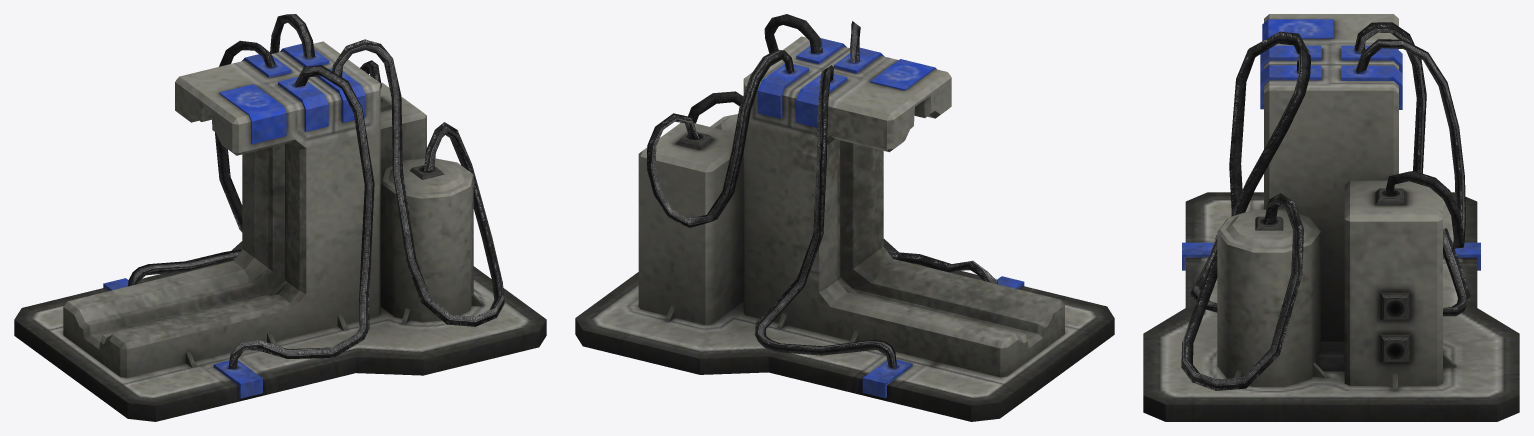
File: 02_05_computer_scan_chip_dock.dae
3 renders of one model, left to right at view 1: azimuth 30°, elevation 25°; view 2: azimuth 150°, elevation 25°; view 3: azimuth 270°, elevation 25°, orthographic. The views are drawn at different scales.
Visible parts, largest first — view 1: chip_dock, cables; view 2: chip_dock, cables; view 3: chip_dock, cables.
Part boxes in pixels (x1,y1,x2,y2): chip_dock: (14,41,546,421); cables: (128,14,504,369); chip_dock: (575,36,1114,421); cables: (647,14,997,369); chip_dock: (1143,14,1519,421); cables: (1181,22,1470,390).
Bounding box in the file's own units: 0.3721 × 0.2487 × 0.2786.
